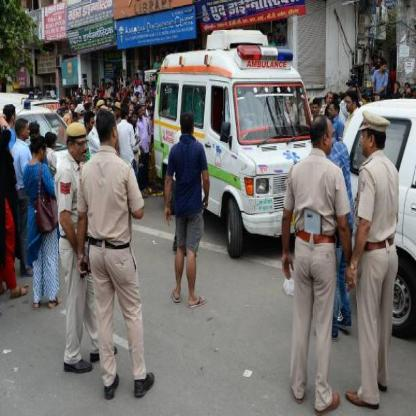priority: (152, 29, 324, 263)
